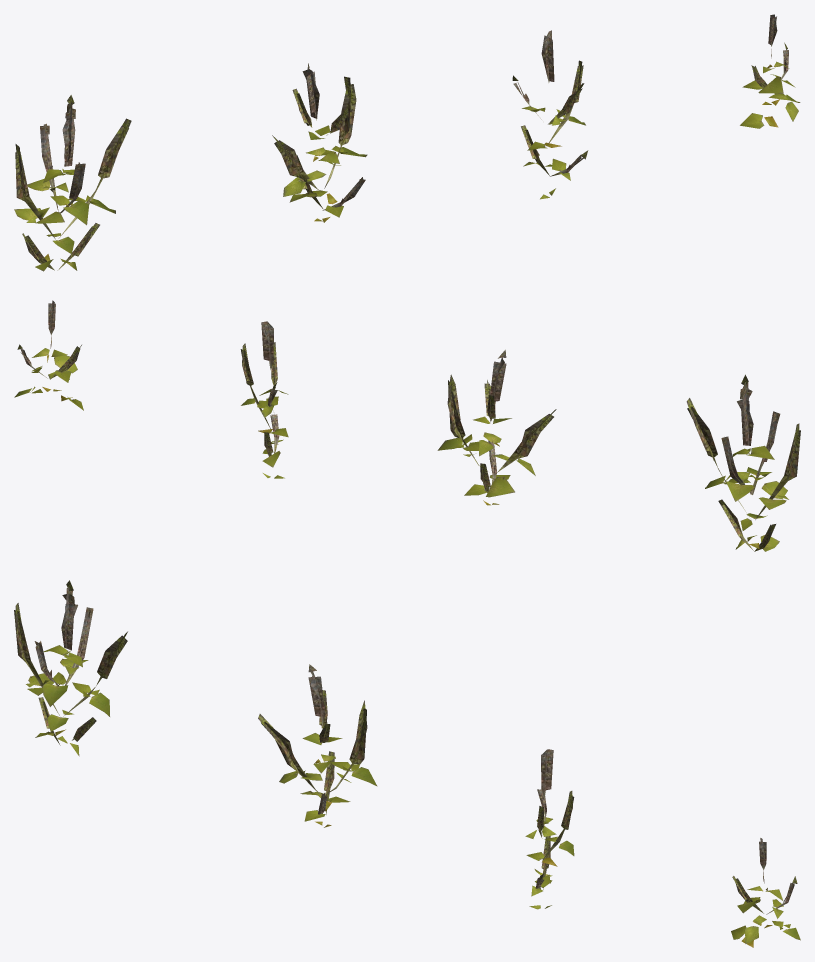
Rendered from shrub_03.lod.glb.
3 renders of one model, top to bottom at view 1: azimuth 30°, elevation 25°; view 2: azimuth 150°, elevation 25°; view 3: azimuth 330°, elevation 25°, orthographic. The views are drawn at different scales.
Parts seen in each view (by area): view 1: shrub_03_a; view 2: shrub_03_a; view 3: shrub_03_a.
Part boxes in pixels (x1=…): shrub_03_a: x1=14, y1=14, x2=800, y2=271; shrub_03_a: x1=14, y1=300, x2=800, y2=551; shrub_03_a: x1=14, y1=580, x2=800, y2=947.
Bounding box in the file's own units: 1.36 × 0.3627 × 0.1512.
Materials: 1 (1 with a texture image).
